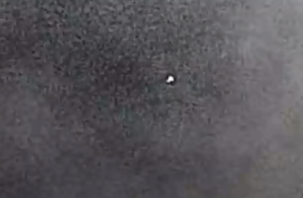Target: (166, 77, 173, 83)
